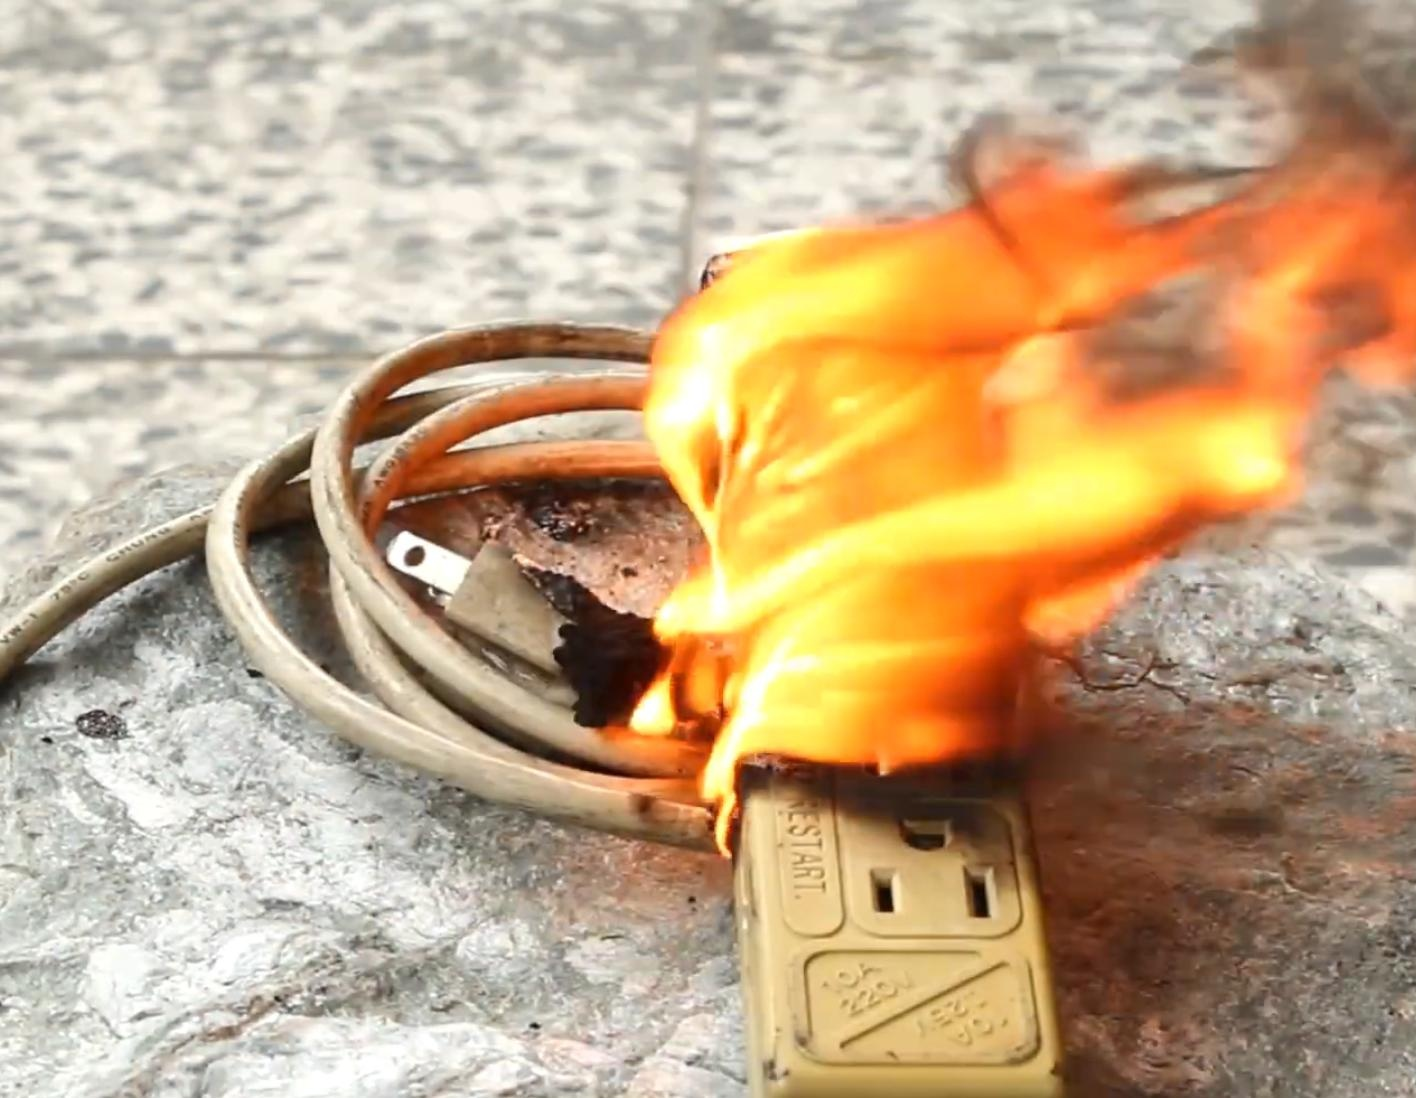fire: (595, 156, 1349, 834)
